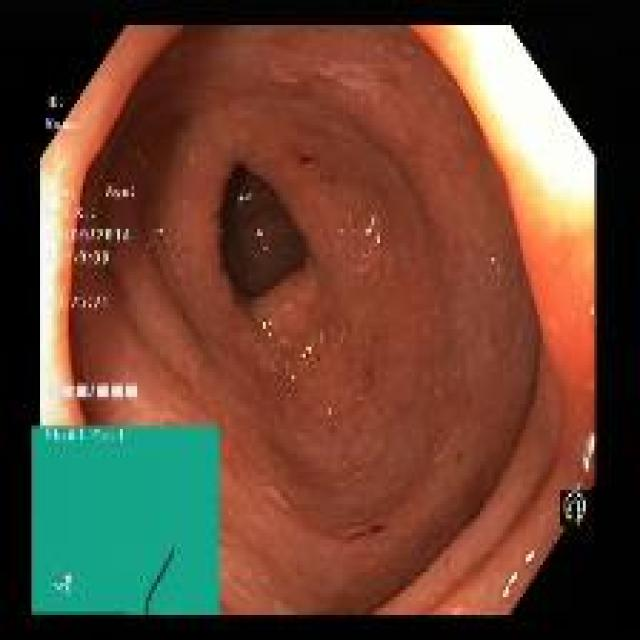ulcerative-colitis: (68, 28, 541, 613)
